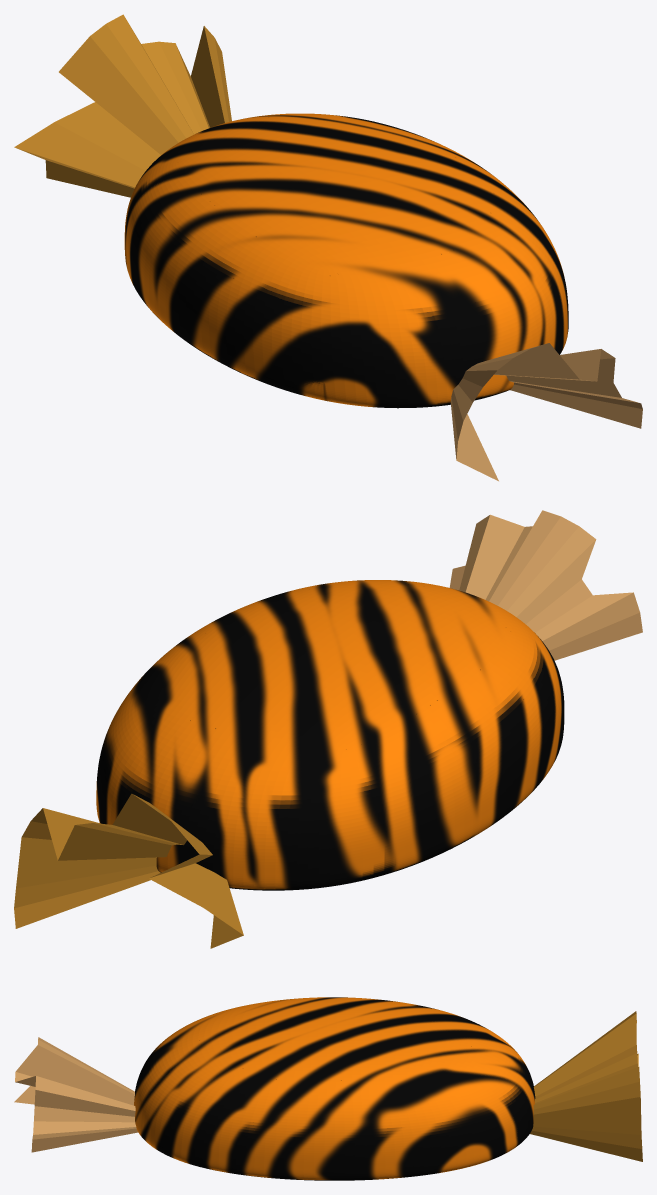
The model's file is CandyTiger.fbx.
3 renders of one model, top to bottom at view 1: azimuth 30°, elevation 25°; view 2: azimuth 150°, elevation 25°; view 3: azimuth 270°, elevation 25°, orthographic. The views are drawn at different scales.
Parts seen in each view (by area): view 1: Cube, Cone.002, Cone.001; view 2: Cube, Cone.002, Cone.001; view 3: Cube, Cone.002, Cone.001.
Boxes of the visible parts, x1,y1,x2,y2 form: Cube: [124, 113, 568, 408]; Cone.002: [14, 14, 231, 197]; Cone.001: [450, 343, 642, 481]; Cube: [96, 580, 564, 890]; Cone.002: [14, 793, 243, 948]; Cone.001: [449, 510, 642, 660]; Cube: [134, 997, 535, 1180]; Cone.002: [530, 1011, 642, 1161]; Cone.001: [14, 1037, 138, 1152].
Bounding box in the file's own units: 184 × 79.67 × 409.
3 materials, 1 textured.
